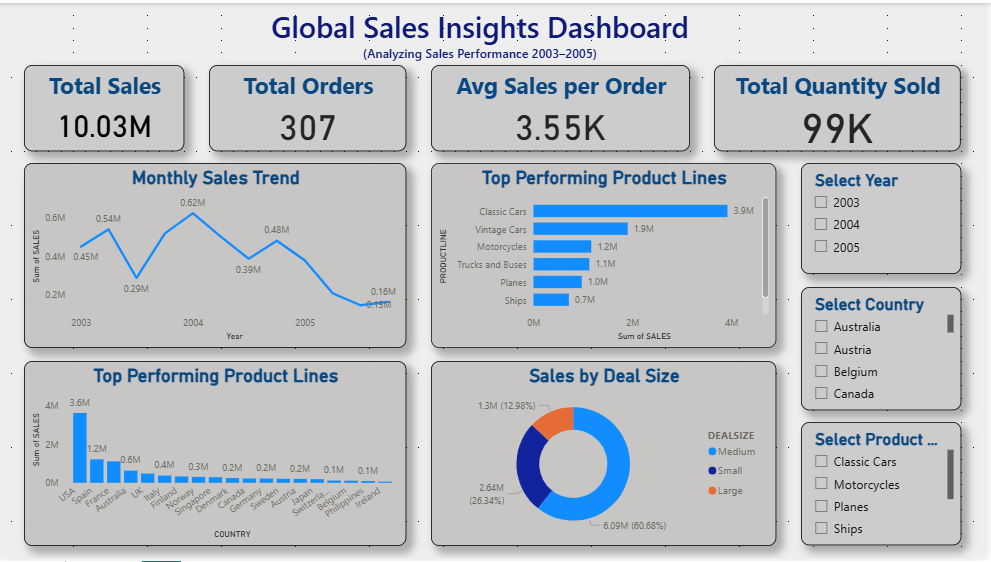

The page's visual inventory and layout, read from the dashboard file:
{"tool":"powerbi","page":{"name":"Page 1","canvas":[1280,720],"ordinal":0},"visuals":[{"type":"textbox","box":[0,0,1248,80],"z":0},{"type":"card","title":"Total Sales","fields":{"Values":["Sum(sales_data_sample.SALES)"]},"box":[32,80,208,112],"z":1000},{"type":"card","title":"Total Orders","fields":{"Values":["Count(sales_data_sample.ORDERNUMBER)"]},"box":[272,80,256,112],"z":2000},{"type":"card","title":"Avg Sales per Order","fields":{"Values":["Avg(sales_data_sample.SALES)"]},"box":[560,80,336,112],"z":3000},{"type":"card","title":"Total Quantity Sold","fields":{"Values":["Sum(sales_data_sample.QUANTITYORDERED)"]},"box":[928,80,320,112],"z":4000},{"type":"lineChart","title":"Monthly Sales Trend","fields":{"Category":["sales_data_sample.ORDERDATE.Variation.Date Hierarchy.Year","sales_data_sample.ORDERDATE.Variation.Date Hierarchy.Quarter","sales_data_sample.ORDERDATE.Variation.Date Hierarchy.Month","sales_data_sample.ORDERDATE.Variation.Date Hierarchy.Day"],"Y":["Sum(sales_data_sample.SALES)"]},"box":[32,208,496,240],"z":5000},{"type":"clusteredBarChart","title":"Top Performing Product Lines","fields":{"Category":["sales_data_sample.PRODUCTLINE"],"Y":["Sum(sales_data_sample.SALES)"]},"box":[560,208,448,240],"z":6000},{"type":"clusteredColumnChart","title":"Top Performing Product Lines","fields":{"Category":["sales_data_sample.COUNTRY"],"Y":["Sum(sales_data_sample.SALES)"]},"box":[32,464,496,240],"z":7000},{"type":"donutChart","title":"Sales by Deal Size","fields":{"Category":["sales_data_sample.DEALSIZE"],"Y":["Sum(sales_data_sample.SALES)"]},"box":[560,464,448,240],"z":8000},{"type":"slicer","title":"Total Sales","fields":{"Values":["sales_data_sample.YEAR_ID"]},"box":[1040,208,208,144],"z":9000},{"type":"slicer","title":"Total Sales","fields":{"Values":["sales_data_sample.COUNTRY"]},"box":[1040,368,208,160],"z":10000},{"type":"slicer","title":"Total Sales","fields":{"Values":["sales_data_sample.PRODUCTLINE"]},"box":[1040,544,208,160],"z":11000}]}

Visuals, with their boxes in screenshot pixels (x1, y1, x2, y2), scaled from the page's 1280x720 canvas onto the 991x562 screenshot:
textbox: select_region(0, 0, 966, 62)
"Total Sales" card: select_region(25, 62, 186, 150)
"Total Orders" card: select_region(211, 62, 409, 150)
"Avg Sales per Order" card: select_region(434, 62, 694, 150)
"Total Quantity Sold" card: select_region(718, 62, 966, 150)
"Monthly Sales Trend" lineChart: select_region(25, 162, 409, 350)
"Top Performing Product Lines" clusteredBarChart: select_region(434, 162, 780, 350)
"Top Performing Product Lines" clusteredColumnChart: select_region(25, 362, 409, 550)
"Sales by Deal Size" donutChart: select_region(434, 362, 780, 550)
"Total Sales" slicer: select_region(805, 162, 966, 275)
"Total Sales" slicer: select_region(805, 287, 966, 412)
"Total Sales" slicer: select_region(805, 425, 966, 550)
